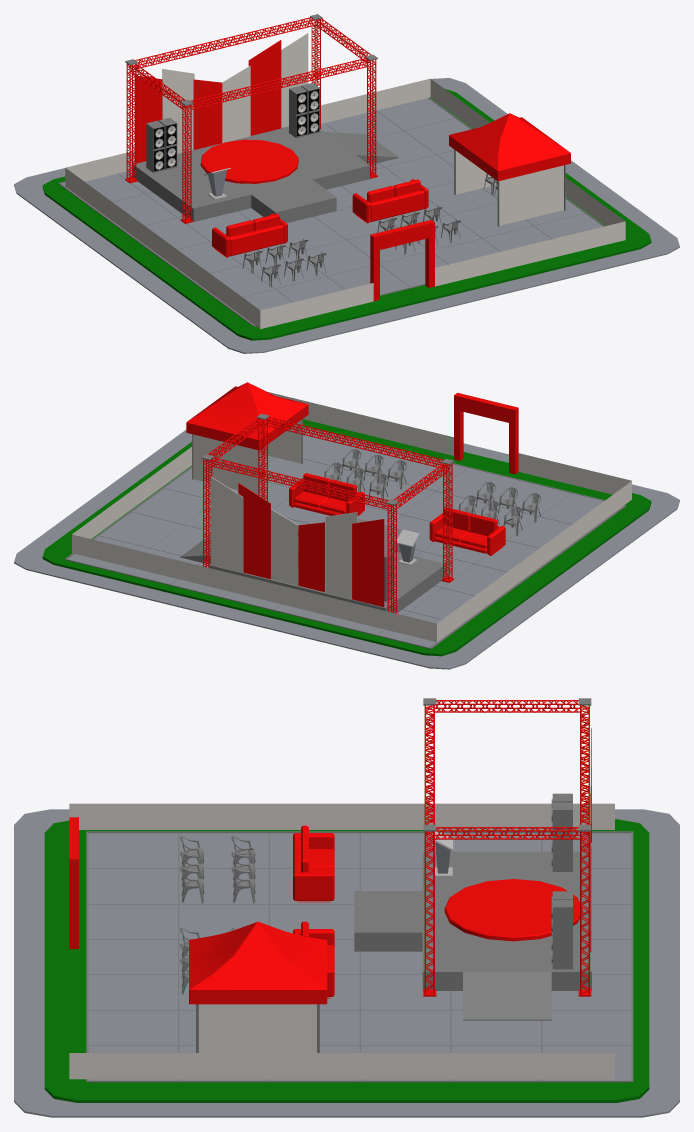
The model's file is event_building_grp.glb.
3 renders of one model, top to bottom at view 1: azimuth 30°, elevation 25°; view 2: azimuth 150°, elevation 25°; view 3: azimuth 270°, elevation 25°, orthographic. The views are drawn at different scales.
Parts seen in each view (by area): view 1: event_tiles, e_wall, event_ground, event_stage, event_backdrop, event_grass, event_trash, E_canopy_top, E_Canopy_flex, event_stage1, sofa_2, event_sofa (+3 smaller); view 2: event_tiles, e_wall, event_ground, event_backdrop, event_grass, event_trash, E_canopy_top, E_Canopy_flex, event_stage, event_sofa, sofa_2, e_arch (+1 smaller); view 3: event_tiles, event_ground, e_wall, event_grass, event_stage, E_canopy_top, event_trash, event_stage1, E_Canopy_flex, event_sofa, e_arch, sofa_2 (+5 smaller).
Boxes of the visible parts, <box> form: event_tiles: <box>58,97,605,326</box>; e_wall: <box>65,78,625,328</box>; event_ground: <box>14,78,679,353</box>; event_stage: <box>133,126,398,223</box>; event_backdrop: <box>134,33,308,163</box>; event_grass: <box>42,89,651,340</box>; event_trash: <box>125,14,377,223</box>; E_canopy_top: <box>449,113,570,181</box>; E_Canopy_flex: <box>456,151,563,225</box>; event_stage1: <box>200,139,298,183</box>; sofa_2: <box>352,179,428,223</box>; event_sofa: <box>212,213,287,257</box>; event_tiles: <box>64,427,626,648</box>; e_wall: <box>72,391,631,642</box>; event_ground: <box>14,430,679,669</box>; event_backdrop: <box>211,476,384,607</box>; event_grass: <box>42,419,651,656</box>; event_trash: <box>201,413,453,613</box>; E_canopy_top: <box>186,382,308,450</box>; E_Canopy_flex: <box>193,420,301,494</box>; event_stage: <box>180,518,446,613</box>; event_sofa: <box>429,508,505,555</box>; sofa_2: <box>289,473,364,516</box>; e_arch: <box>454,392,518,474</box>; event_tiles: <box>86,831,633,1082</box>; event_ground: <box>14,809,679,1117</box>; e_wall: <box>69,803,614,1079</box>; event_grass: <box>44,819,649,1102</box>; event_stage: <box>354,851,591,1020</box>; E_canopy_top: <box>189,921,327,1004</box>; event_trash: <box>423,698,591,996</box>; event_stage1: <box>444,879,582,941</box>; E_Canopy_flex: <box>199,1004,317,1052</box>; event_sofa: <box>293,825,334,902</box>; e_arch: <box>69,817,78,948</box>; sofa_2: <box>293,921,334,998</box>.
Size of what is drawn, in the model's own units: 4.86 by 1.28 by 4.46.
